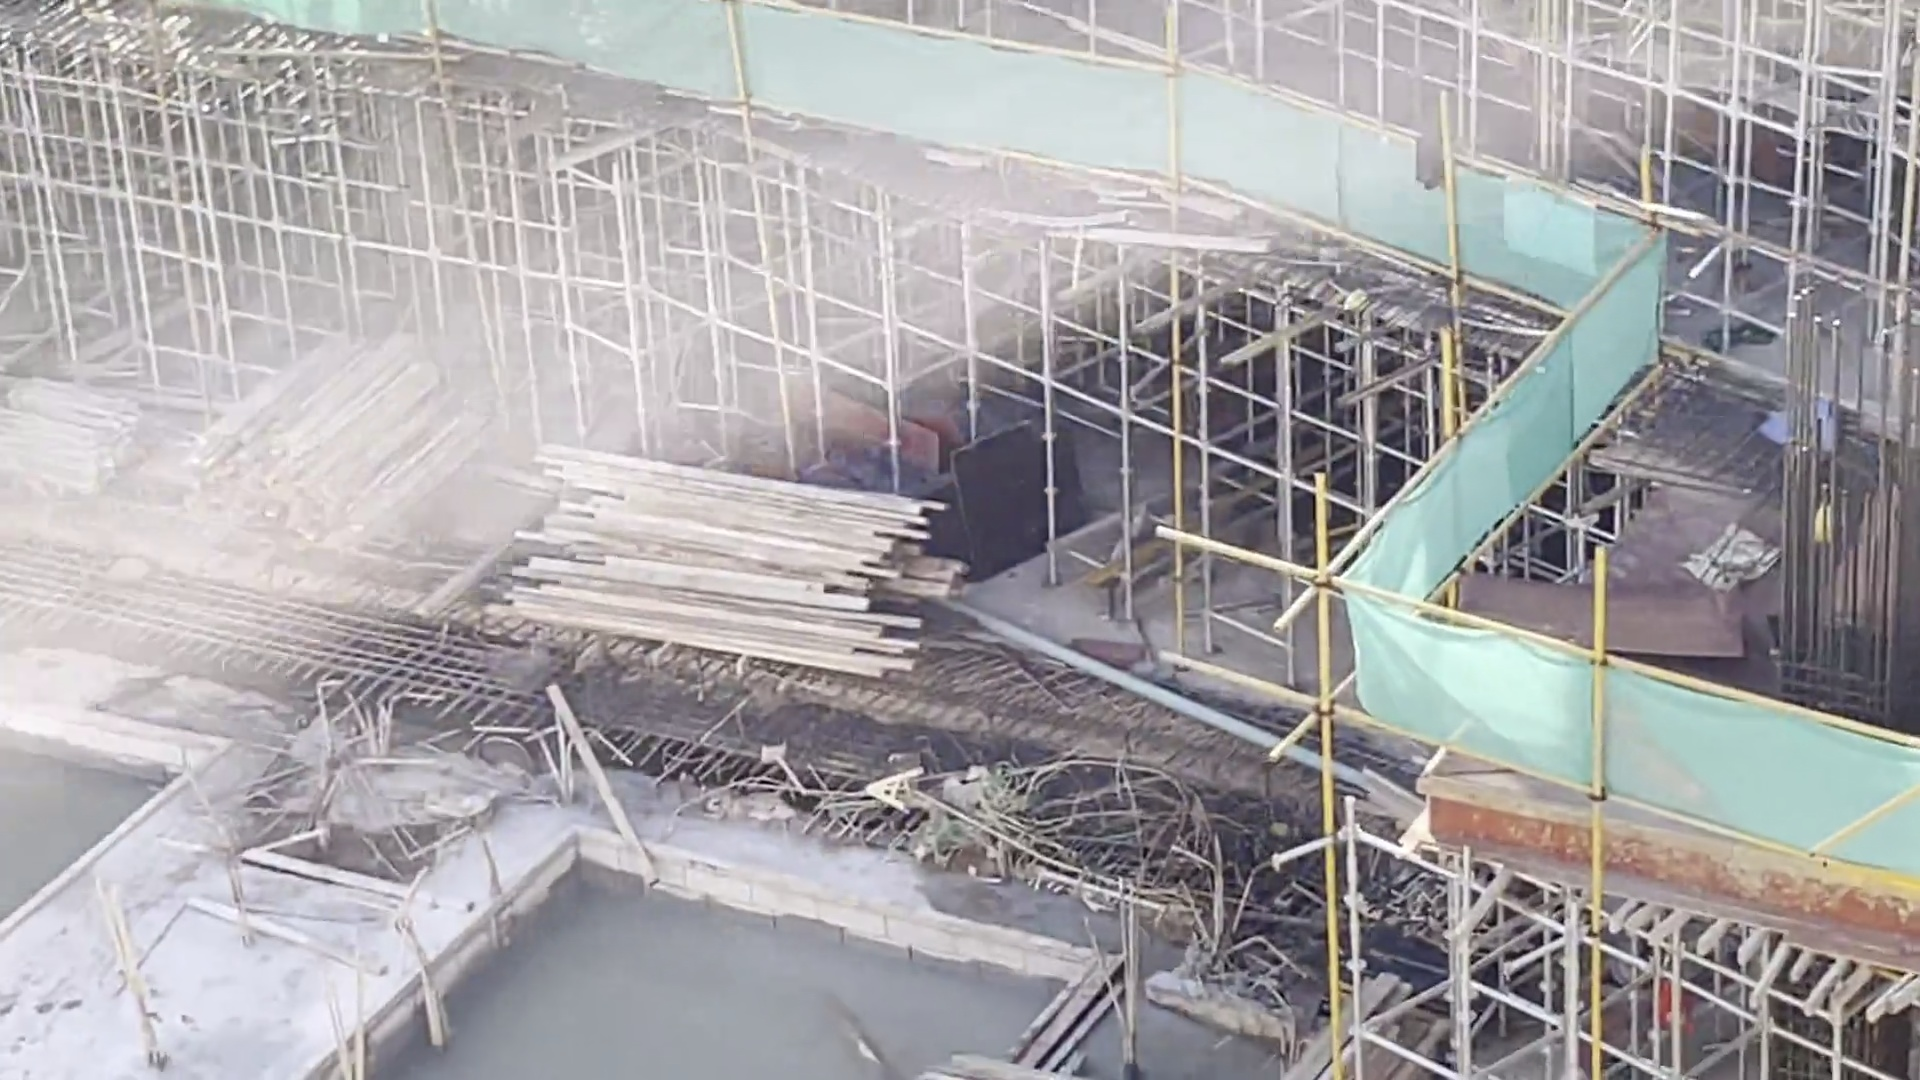wood: (510, 430, 942, 695), (182, 330, 463, 560)
